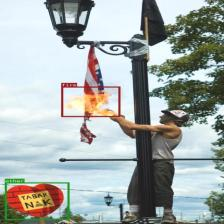fire: (61, 86, 120, 117)
